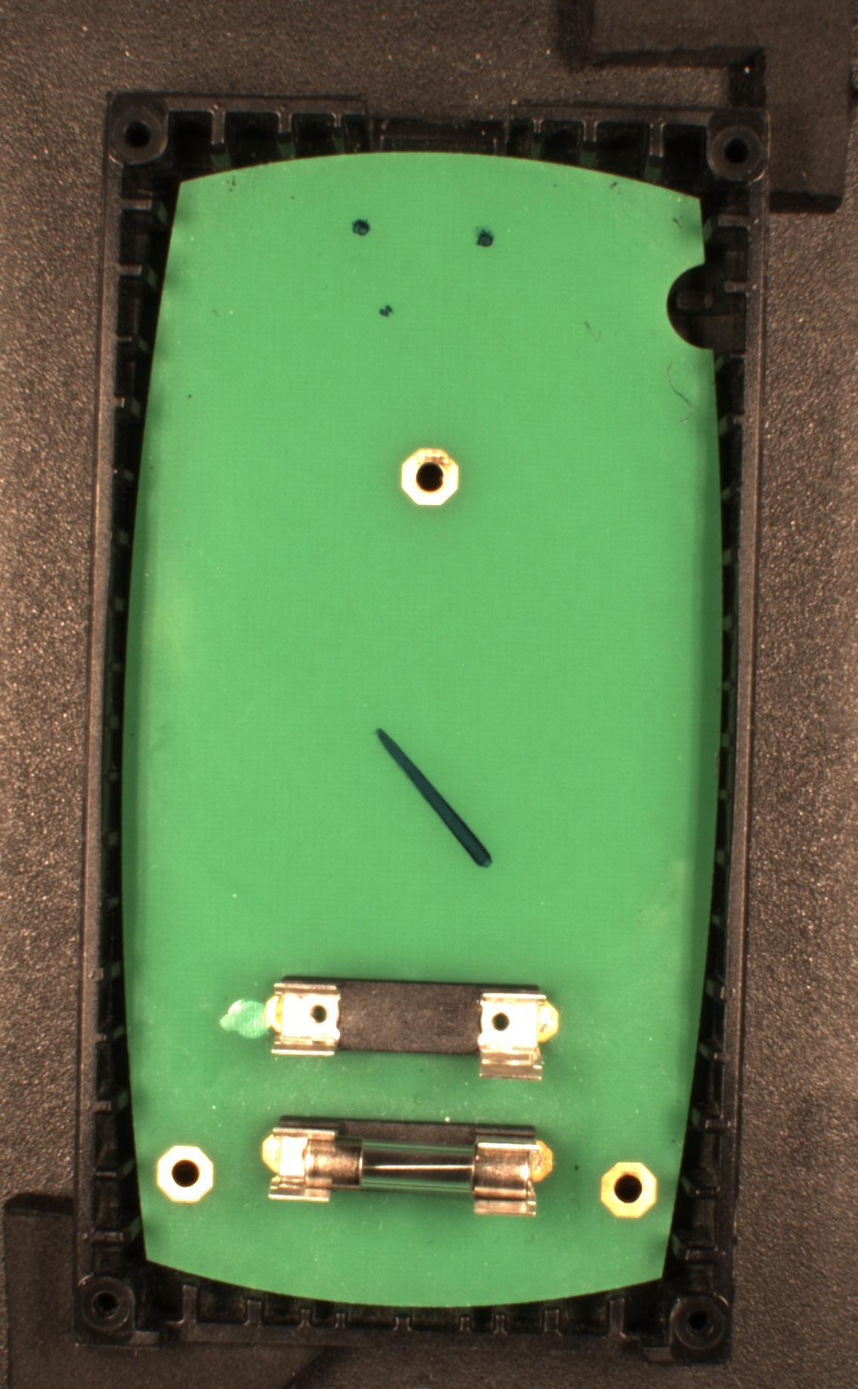Linijsko Ostecene: (373, 726, 495, 872)
Nepostojanje osiguraca: (263, 973, 560, 1082)
Tockasto Ostecenje: (473, 224, 501, 252), (351, 217, 372, 239), (379, 302, 395, 318)
